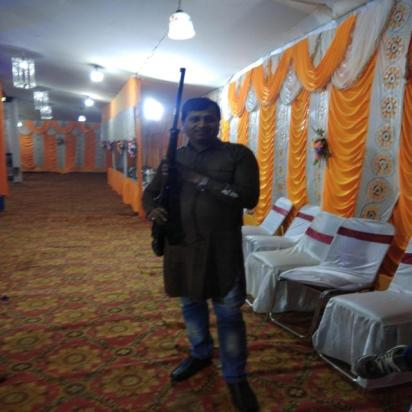Gun: (148, 66, 188, 259)
